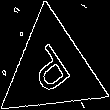P_SE: (24, 38, 79, 101)
